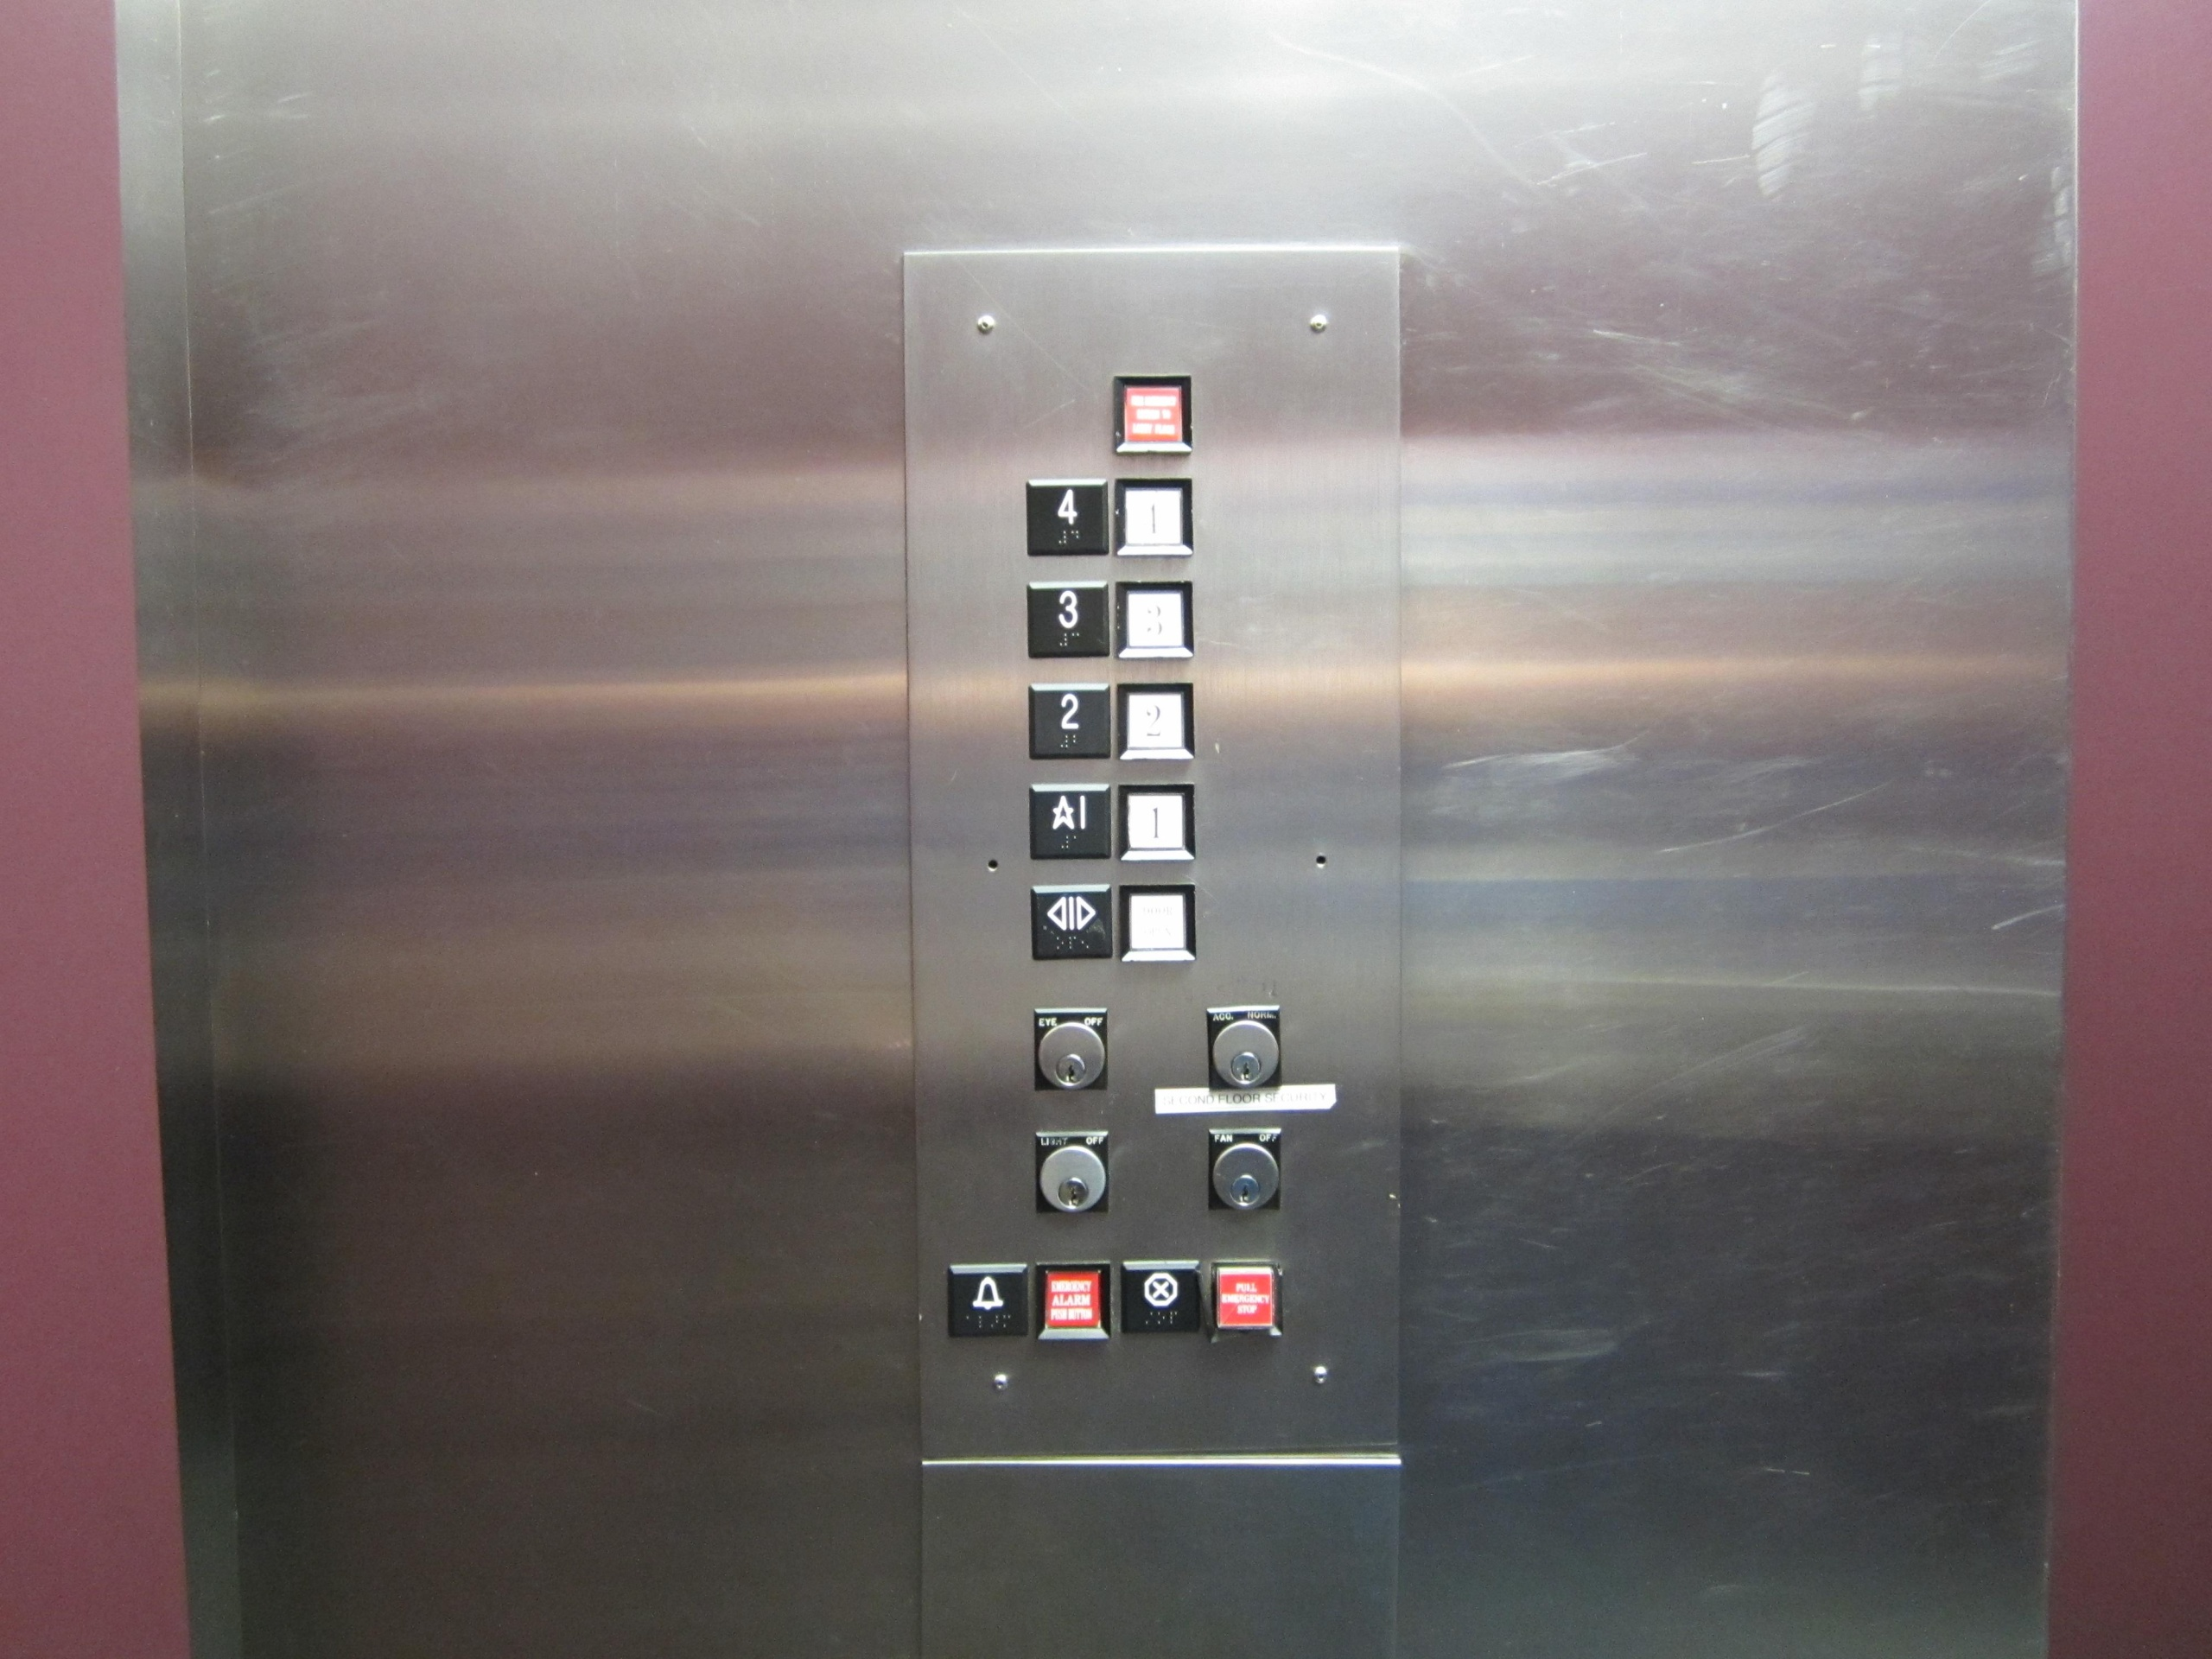1: (1118, 781, 1198, 863), (1113, 477, 1193, 558)
2: (1115, 681, 1197, 762), (1028, 680, 1111, 758)
3: (1024, 582, 1113, 660), (1113, 580, 1193, 657)
4: (1022, 477, 1111, 558)
alarm: (944, 1262, 1033, 1342)
empty: (1118, 884, 1200, 965)
keyhole: (1033, 1131, 1109, 1216), (1205, 1007, 1280, 1093), (1207, 1127, 1280, 1213), (1035, 1007, 1106, 1089)
open: (1028, 882, 1115, 964)
s1: (1024, 781, 1113, 866)
stop: (1115, 1256, 1204, 1344)
text: (1109, 375, 1197, 458)
text_alarm: (1035, 1262, 1109, 1342)
text_stop: (1211, 1258, 1284, 1342)
